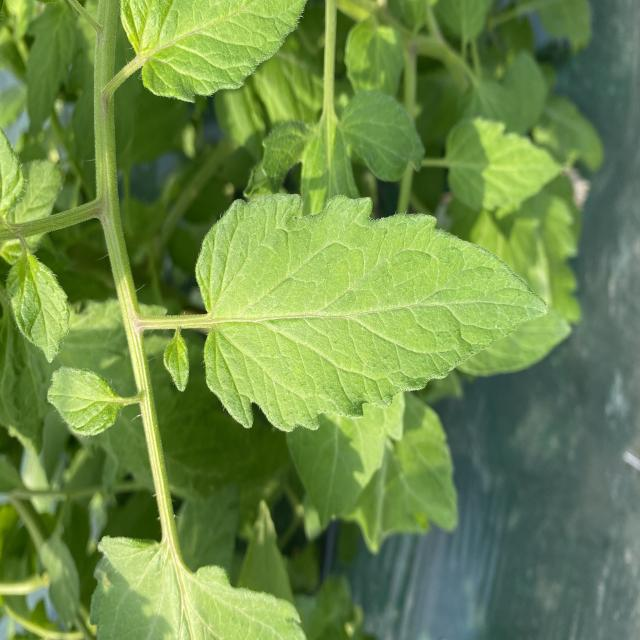Healthy Leaf: (196, 192, 548, 431), (340, 90, 425, 182), (7, 252, 69, 362), (47, 366, 117, 436), (164, 337, 189, 392)
